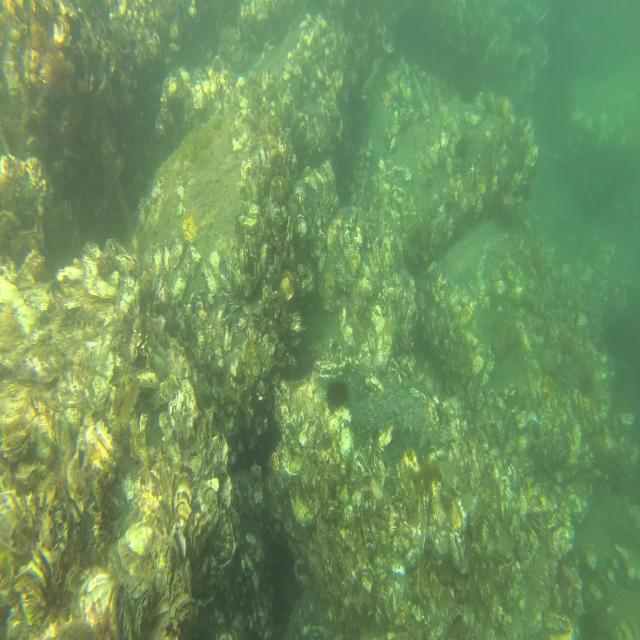echinus: (323, 377, 350, 415), (167, 92, 183, 124), (455, 136, 468, 163)
holothurian: (62, 305, 98, 329)
